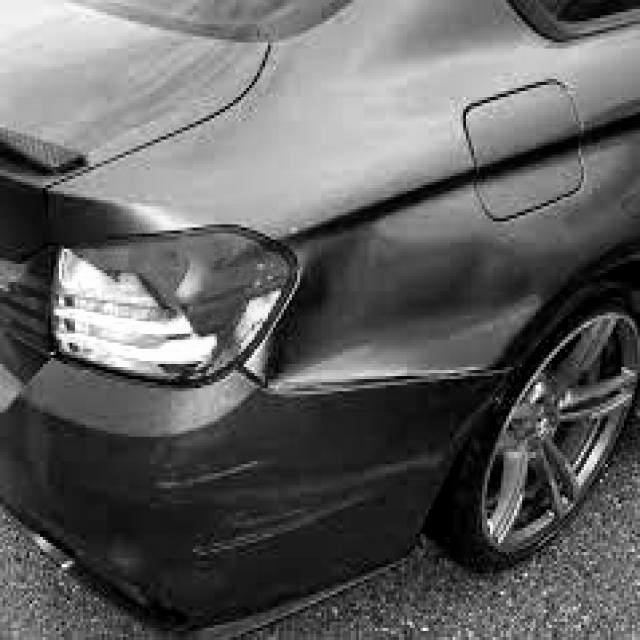Taillight-Damage: (0, 209, 322, 383)
quaterpanel-dent: (348, 56, 637, 377)
rear-bumper-dent: (0, 359, 476, 626)
